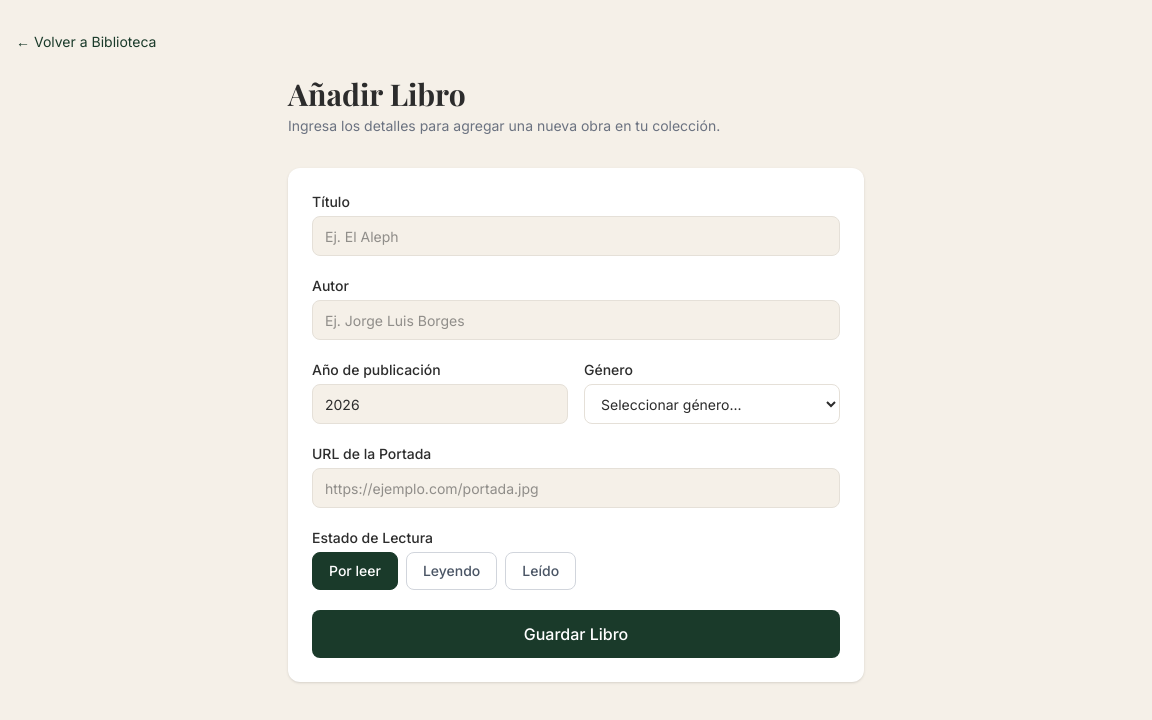
Scenario: AnadirLibro › muestra error si se intenta guardar sin autor
Type "Dune" into the field with placeholder "Ej. El Aleph" at (576, 236), box [312,216,840,256]
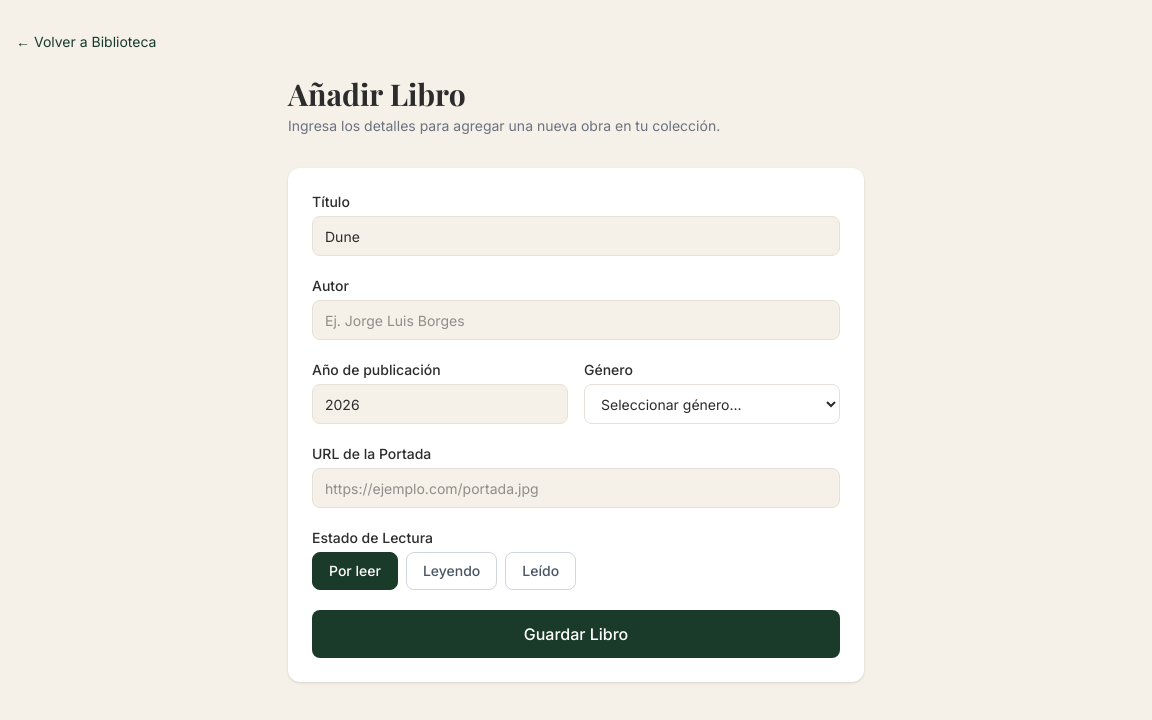
Click the button "Guardar Libro" at (576, 634), box [312,610,840,658]
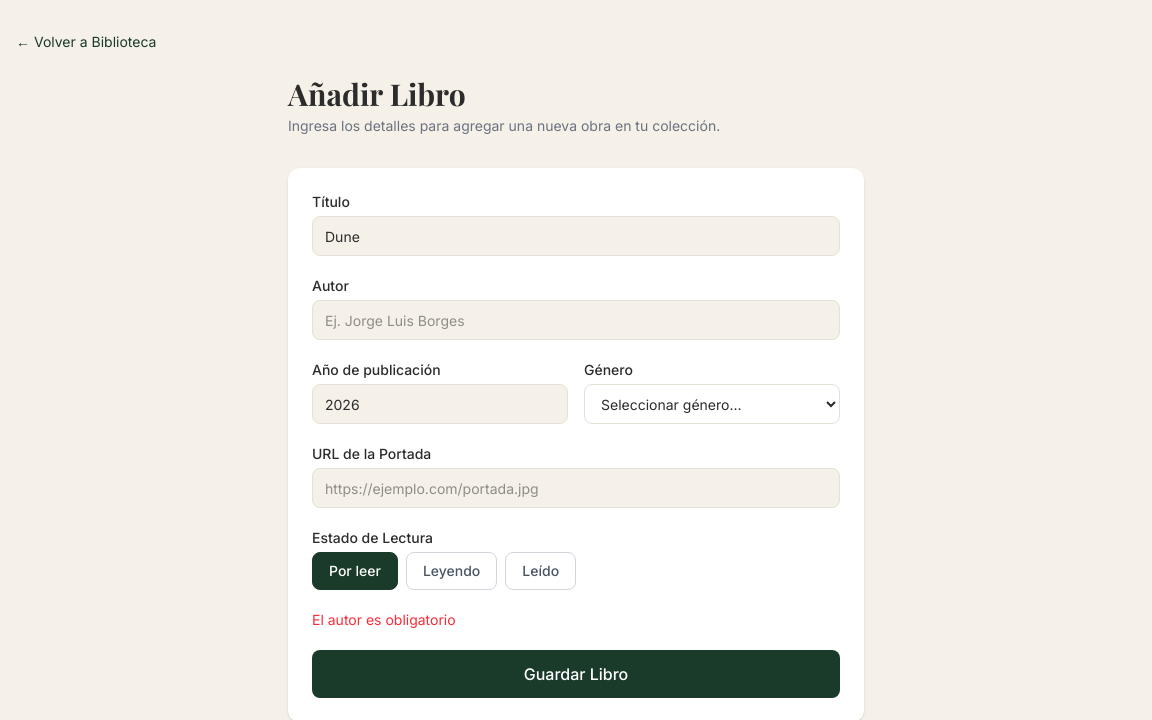
Expected: the text "El autor es obligatorio" is shown, [312,611,456,628]
